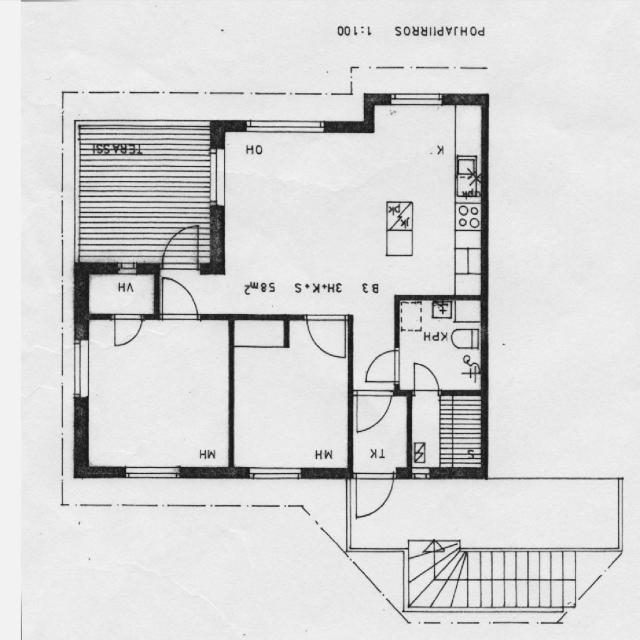door: (155, 219, 203, 273), (350, 469, 396, 520), (302, 313, 350, 361), (158, 275, 202, 322), (351, 389, 393, 432), (365, 349, 401, 385), (110, 312, 144, 348), (411, 359, 440, 395)
window: (71, 328, 93, 403), (244, 117, 328, 136), (208, 143, 228, 213), (119, 462, 184, 481), (242, 463, 306, 482), (386, 90, 445, 108), (612, 478, 626, 548), (113, 261, 140, 277), (410, 469, 434, 483)
zone: (206, 115, 480, 308), (82, 318, 230, 471), (232, 319, 352, 474), (398, 297, 484, 392), (409, 390, 486, 474), (81, 270, 157, 314)
